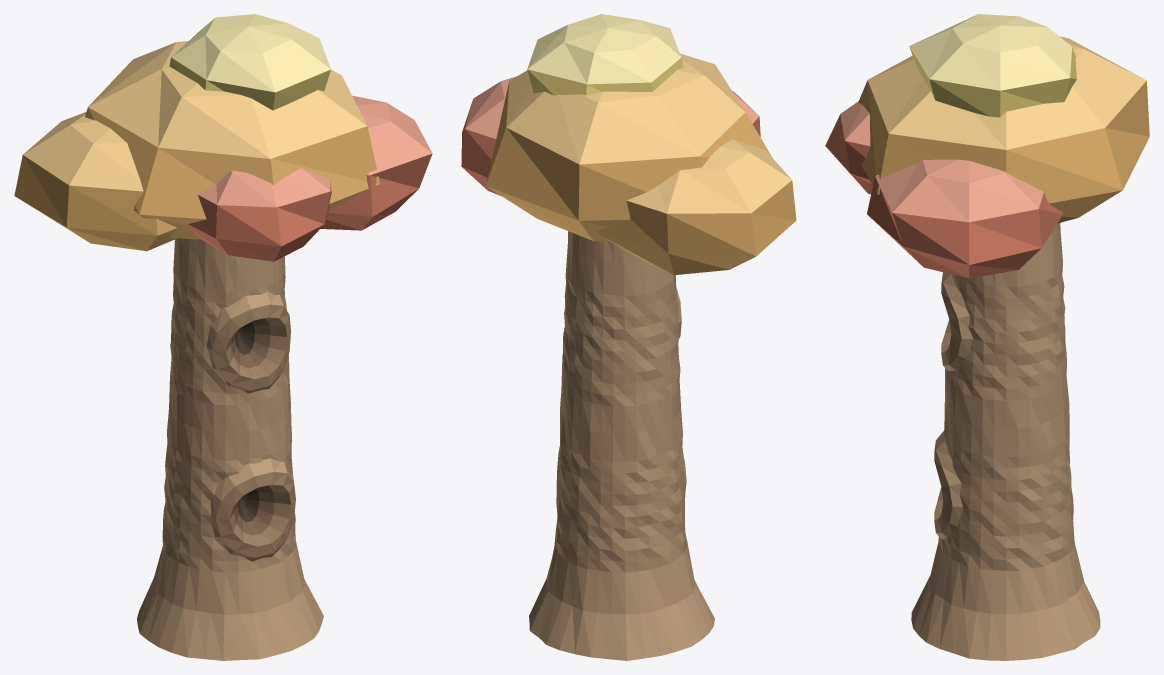
File: hollow_tree 1.glb
The picture shows the model from 3 angles, left to right: view 1: azimuth 30°, elevation 25°; view 2: azimuth 150°, elevation 25°; view 3: azimuth 270°, elevation 25°; orthographic projection. The views are drawn at different scales.
Visible parts, largest first — view 1: HollowTree_Canopy, HollowTree_Trunk; view 2: HollowTree_Canopy, HollowTree_Trunk; view 3: HollowTree_Canopy, HollowTree_Trunk.
Boxes of the visible parts, x1=… form: HollowTree_Canopy: x1=14, y1=14, x2=432, y2=261; HollowTree_Trunk: x1=137, y1=238, x2=323, y2=660; HollowTree_Canopy: x1=461, y1=14, x2=796, y2=275; HollowTree_Trunk: x1=529, y1=231, x2=714, y2=660; HollowTree_Canopy: x1=825, y1=14, x2=1149, y2=278; HollowTree_Trunk: x1=911, y1=223, x2=1100, y2=660.
Bounding box in the file's own units: 6.75 × 10.8 × 5.27.
